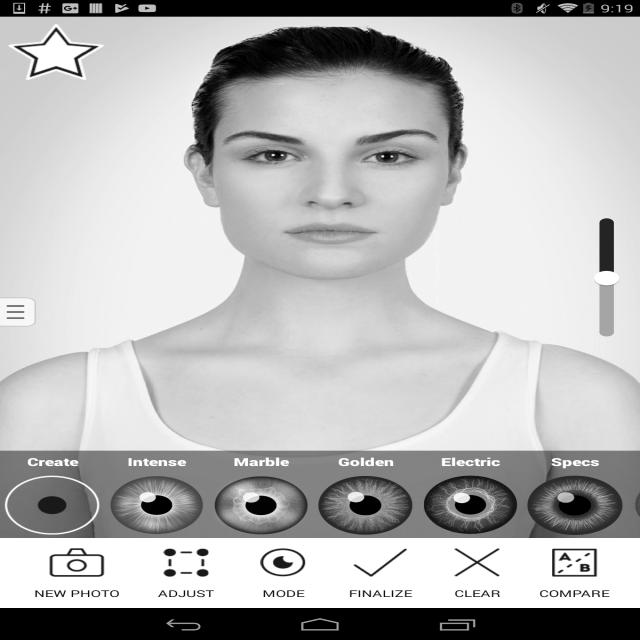ImageButton: (4, 19, 109, 85), (318, 476, 414, 535), (5, 476, 100, 535), (214, 476, 309, 535), (423, 476, 518, 535), (110, 476, 204, 535), (528, 476, 622, 535), (632, 476, 640, 535)
ImageView: (17, 538, 138, 587), (138, 538, 235, 587), (235, 538, 332, 587), (332, 538, 429, 587), (429, 538, 526, 587), (526, 538, 623, 587), (0, 296, 38, 327)
SeekBar: (590, 214, 623, 340)
TextView: (17, 587, 138, 608), (0, 450, 105, 472), (209, 450, 314, 472), (418, 450, 523, 472), (105, 450, 209, 472), (314, 450, 418, 472), (523, 450, 627, 472), (138, 587, 235, 608), (235, 587, 332, 608), (332, 587, 429, 608), (429, 587, 526, 608), (526, 587, 623, 608), (627, 450, 640, 472)
